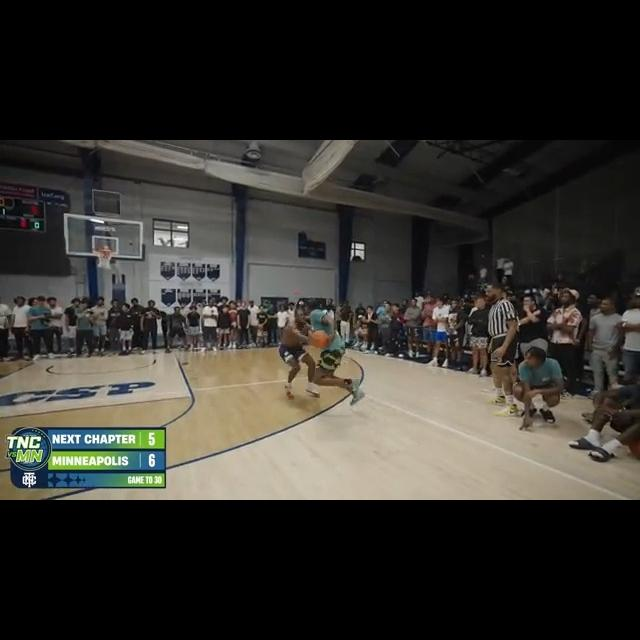basketball: (309, 330, 329, 349)
hoop: (93, 244, 113, 269)
